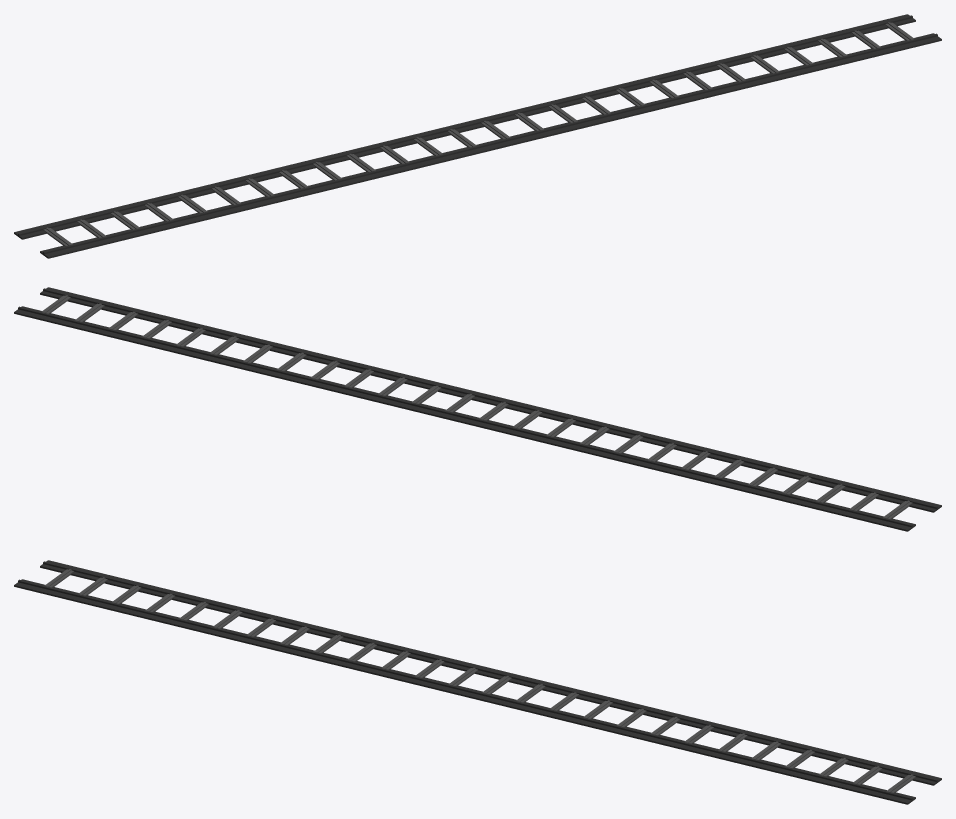
Rendered from railway.fbx.
3 views of the same model, one above another, from view 1: azimuth 30°, elevation 25°; view 2: azimuth 150°, elevation 25°; view 3: azimuth 330°, elevation 25° (orthographic).
Visible parts, largest first — view 1: Cube; view 2: Cube; view 3: Cube.
Part boxes in pixels (x1=…): Cube: x1=14, y1=14, x2=941, y2=258; Cube: x1=14, y1=287, x2=941, y2=531; Cube: x1=14, y1=560, x2=941, y2=804.
Bounding box in the file's own units: 4813 × 16.56 × 319.
